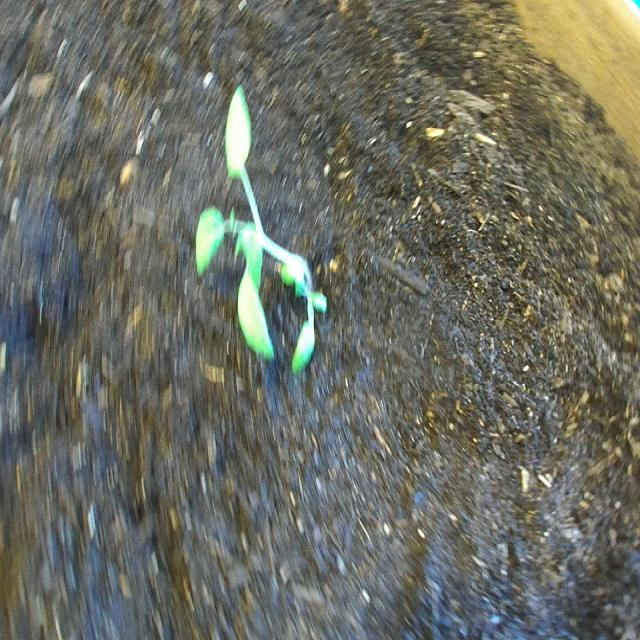Healthy: (186, 76, 331, 380)
